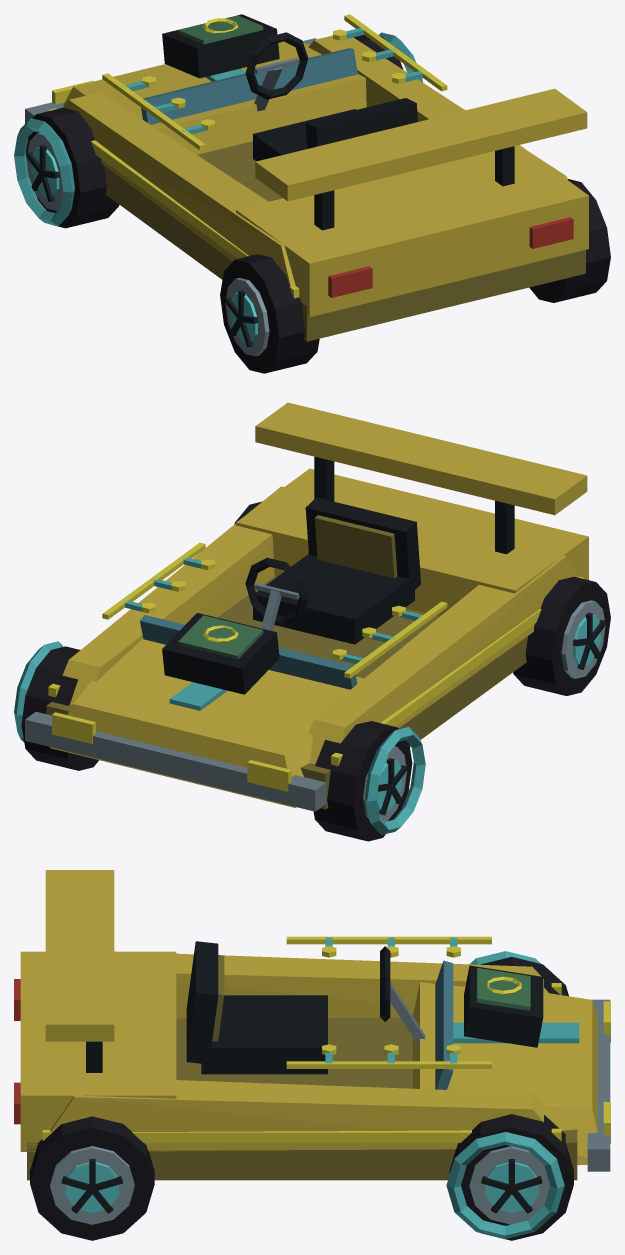
File: kart.glb
3 views of the same model, one above another, from view 1: azimuth 30°, elevation 25°; view 2: azimuth 150°, elevation 25°; view 3: azimuth 270°, elevation 25° (orthographic). The views are drawn at different scales.
Parts seen in each view (by area): view 1: identity-sports-car-sports-car-road-car-body, wheel-rear-left, identity-sports-car-driver-cockpit, wheel-front-left, identity-sports-car-motif-neon, identity-sports-car-motif-scanner, identity-sports-car-motif-circuit, wheel-rear-right; view 2: identity-sports-car-sports-car-road-car-body, identity-sports-car-driver-cockpit, wheel-rear-left, wheel-front-left, identity-sports-car-motif-scanner, identity-sports-car-motif-neon, identity-sports-car-motif-circuit, wheel-front-right; view 3: identity-sports-car-sports-car-road-car-body, identity-sports-car-driver-cockpit, wheel-rear-right, identity-sports-car-motif-neon, wheel-front-right, identity-sports-car-motif-scanner, identity-sports-car-motif-circuit, wheel-front-left.
Boxes of the visible parts, <box> form: identity-sports-car-sports-car-road-car-body: <box>25,35,588,341</box>; wheel-rear-left: <box>220,254,319,373</box>; identity-sports-car-driver-cockpit: <box>245,32,417,161</box>; wheel-front-left: <box>26,107,119,228</box>; identity-sports-car-motif-neon: <box>14,32,422,298</box>; identity-sports-car-motif-scanner: <box>162,14,279,78</box>; identity-sports-car-motif-circuit: <box>102,14,447,150</box>; wheel-rear-right: <box>529,179,610,302</box>; identity-sports-car-sports-car-road-car-body: <box>25,402,588,811</box>; identity-sports-car-driver-cockpit: <box>245,497,420,644</box>; wheel-rear-left: <box>513,576,610,695</box>; wheel-front-left: <box>313,721,412,841</box>; identity-sports-car-motif-scanner: <box>162,613,279,694</box>; identity-sports-car-motif-neon: <box>14,576,584,835</box>; identity-sports-car-motif-circuit: <box>102,542,447,678</box>; wheel-front-right: <box>21,646,98,770</box>; identity-sports-car-sports-car-road-car-body: <box>14,870,610,1180</box>; identity-sports-car-driver-cockpit: <box>186,941,425,1074</box>; wheel-rear-right: <box>30,1116,154,1240</box>; identity-sports-car-motif-neon: <box>42,951,564,1238</box>; wheel-front-right: <box>449,1114,573,1240</box>; identity-sports-car-motif-scanner: <box>464,965,543,1047</box>; identity-sports-car-motif-circuit: <box>286,936,491,1068</box>; wheel-front-left: <box>480,957,568,996</box>.
Bounding box in the file's own units: 2.13 × 1.11 × 2.88.
